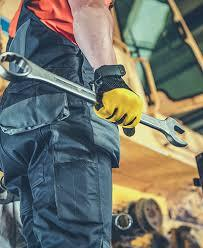gloves: (92, 64, 145, 138)
